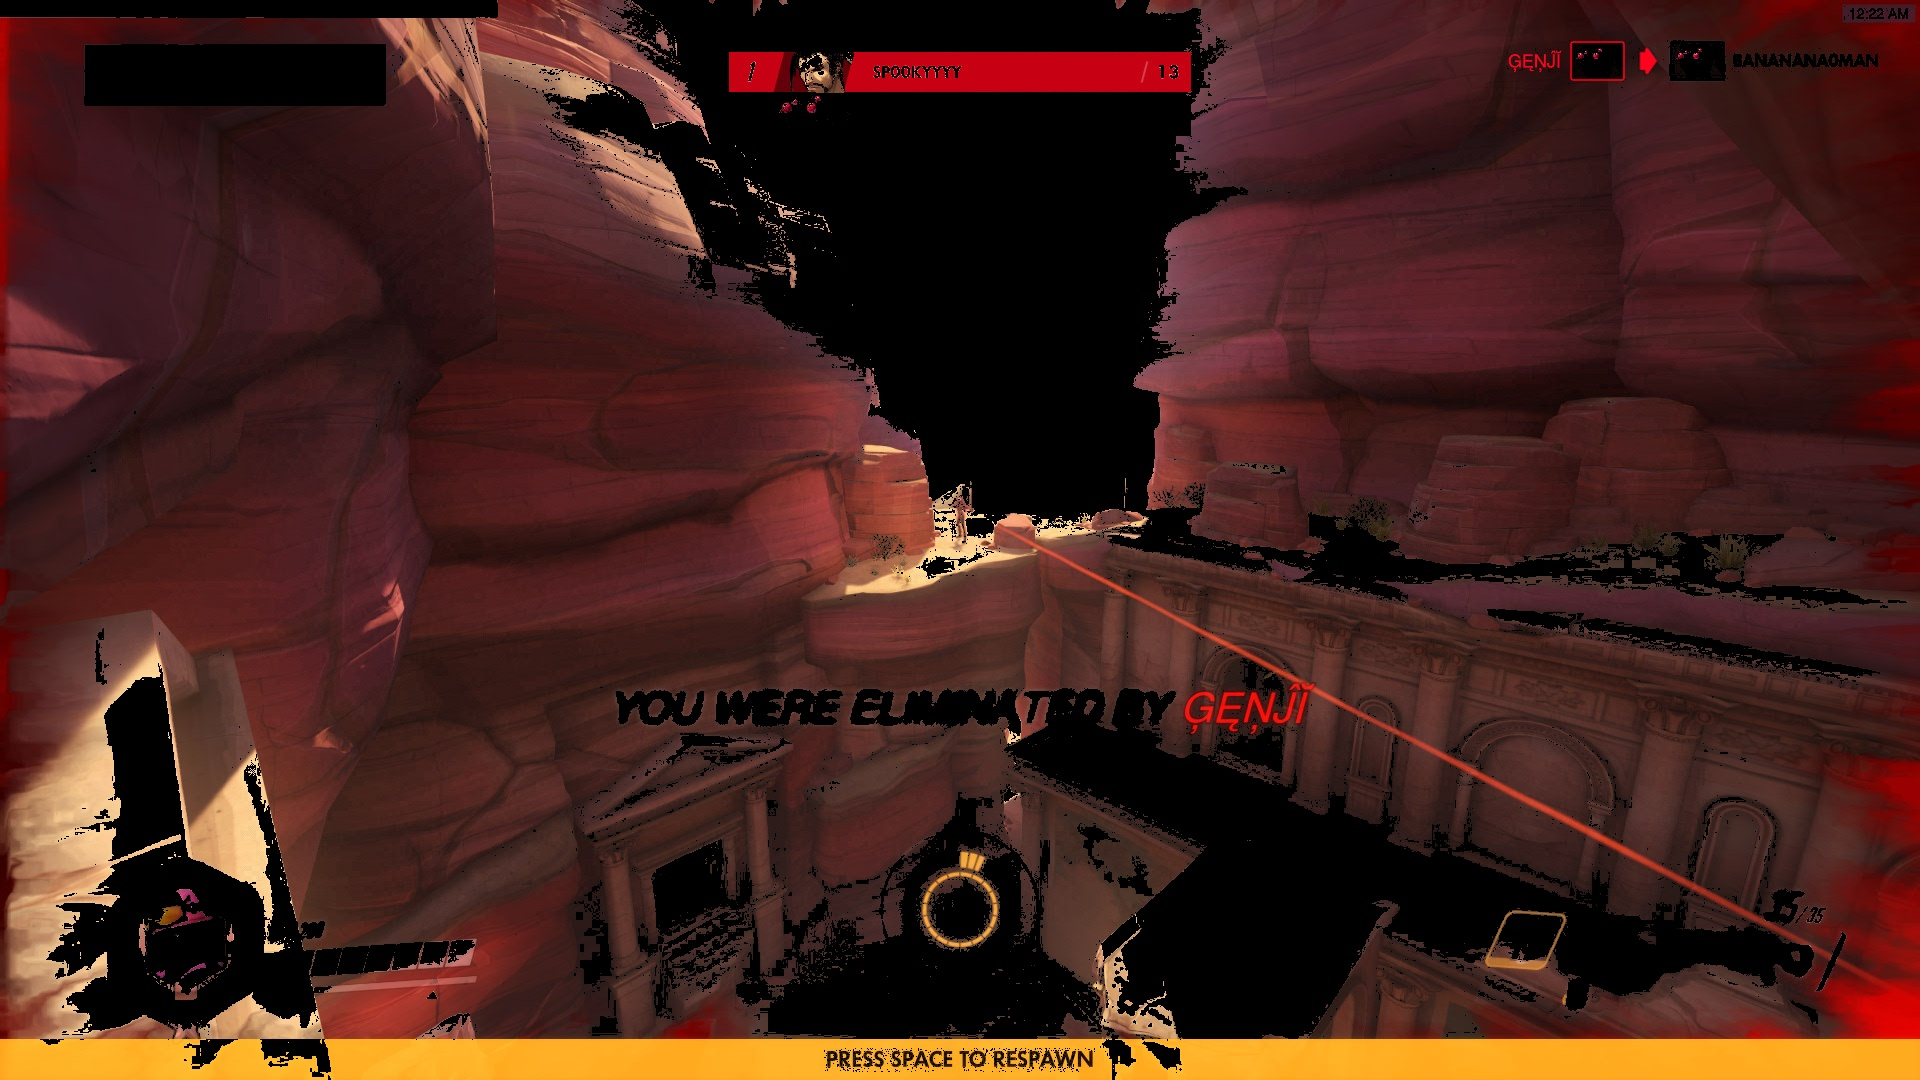widowmaker: (949, 495, 969, 554)
